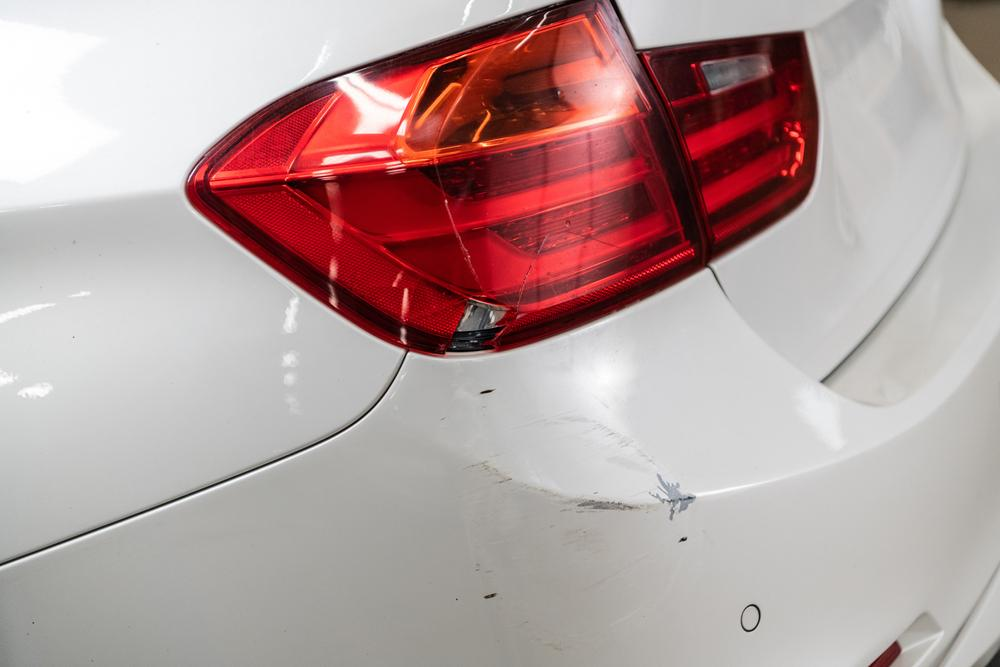lamp broken: (184, 0, 709, 357)
scratch: (462, 408, 699, 661)
